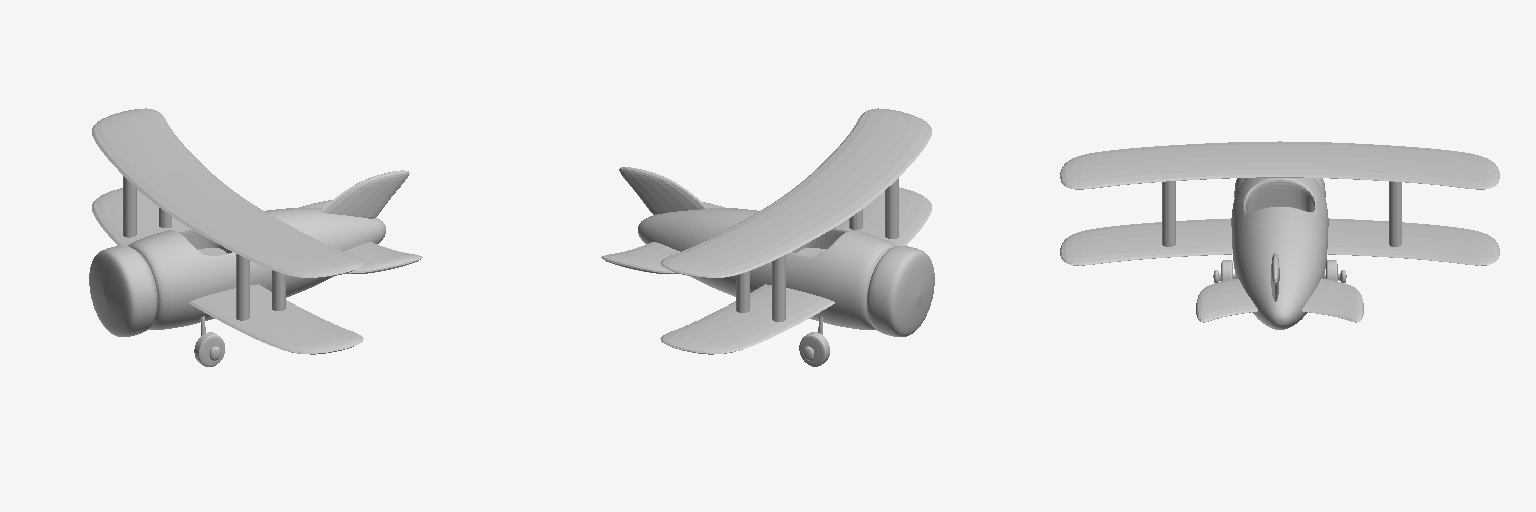
Rendered from body.obj.
The picture shows the model from 3 angles: view 1: azimuth 30°, elevation 25°; view 2: azimuth 150°, elevation 25°; view 3: azimuth 270°, elevation 25°; orthographic projection.
Visible parts, largest first — view 1: front_wings_Plane.002, body_Plane.001, supports_Cylinder.001, tail_Plane.004, back_wings_Plane.003, wheels_Cylinder; view 2: front_wings_Plane.002, body_Plane.001, supports_Cylinder.001, tail_Plane.004, back_wings_Plane.003, wheels_Cylinder; view 3: front_wings_Plane.002, body_Plane.001, back_wings_Plane.003, supports_Cylinder.001.
Part boxes in pixels (x1,y1,x2,y2): front_wings_Plane.002: (92, 108, 363, 354); body_Plane.001: (89, 208, 385, 336); supports_Cylinder.001: (123, 176, 285, 320); tail_Plane.004: (320, 170, 409, 218); back_wings_Plane.003: (299, 200, 422, 273); wheels_Cylinder: (194, 332, 224, 366); front_wings_Plane.002: (660, 108, 931, 354); body_Plane.001: (638, 208, 934, 336); supports_Cylinder.001: (736, 178, 898, 321); tail_Plane.004: (619, 167, 708, 214); back_wings_Plane.003: (601, 202, 724, 273); wheels_Cylinder: (799, 332, 829, 366); front_wings_Plane.002: (1060, 141, 1499, 265); body_Plane.001: (1231, 178, 1328, 329); back_wings_Plane.003: (1196, 278, 1363, 322); supports_Cylinder.001: (1162, 181, 1401, 246).
Bounding box in the file's own units: 7.64 × 3.5 × 9.62.